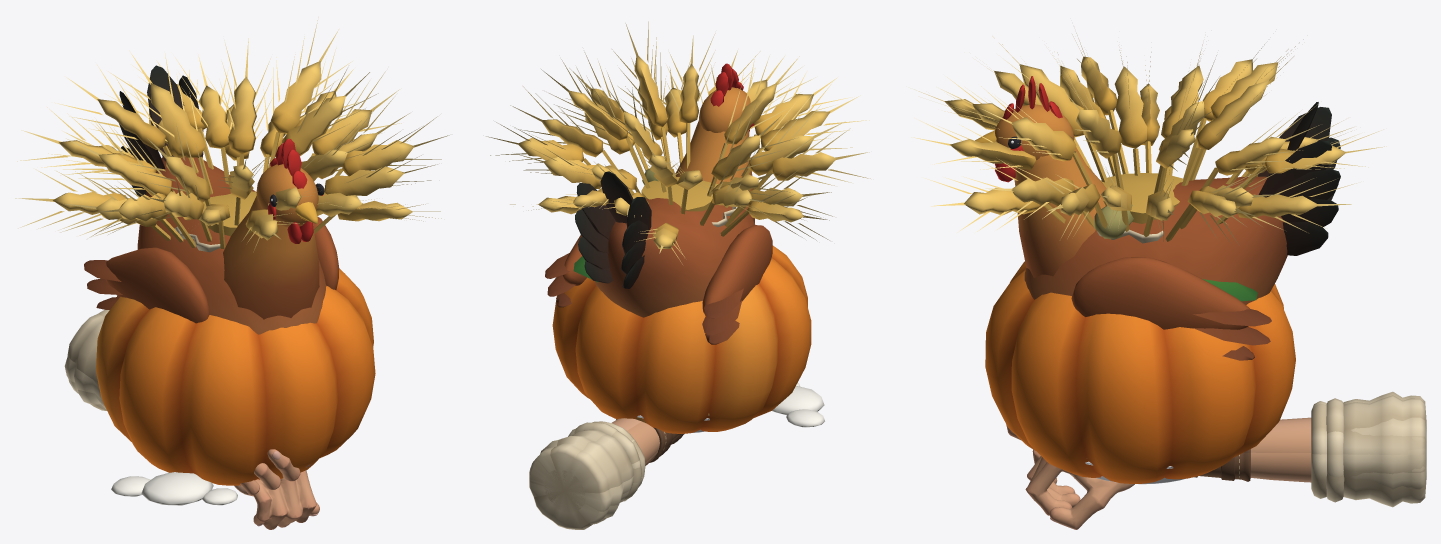
Rendered from items.glb.
The picture shows the model from 3 angles, left to right: view 1: azimuth 30°, elevation 25°; view 2: azimuth 150°, elevation 25°; view 3: azimuth 270°, elevation 25°; orthographic projection. The views are drawn at different scales.
Parts seen in each view (by area): view 1: item_pumpkin, item_wheat, chicken, chicken_head, fp_arm_r, item_flour, fp_arm_l; view 2: item_wheat, item_pumpkin, chicken, fp_arm_r, fp_arm_l, chicken_head, item_flour; view 3: item_pumpkin, item_wheat, chicken, fp_arm_r, chicken_head, fp_arm_l.
Part boxes in pixels (x1,y1,x2,y2): item_pumpkin: (96,268,375,485); item_wheat: (15,17,449,252); chicken: (84,65,339,334); chicken_head: (223,138,324,319); fp_arm_r: (67,314,319,529); item_flour: (111,226,237,505); fp_arm_l: (64,310,310,496); item_wheat: (486,21,870,264); item_pumpkin: (552,168,811,433); chicken: (545,171,772,344); fp_arm_r: (529,421,680,524); fp_arm_l: (529,418,684,529); chicken_head: (675,63,754,223); item_flour: (640,192,824,427); item_pumpkin: (985,204,1295,483); item_wheat: (911,33,1386,245); chicken: (1024,102,1340,360); fp_arm_r: (1025,391,1426,529); chicken_head: (975,76,1106,277); fp_arm_l: (1006,395,1426,507).
Size of the model in its own units: 0.5122 by 0.5815 by 0.5691.
